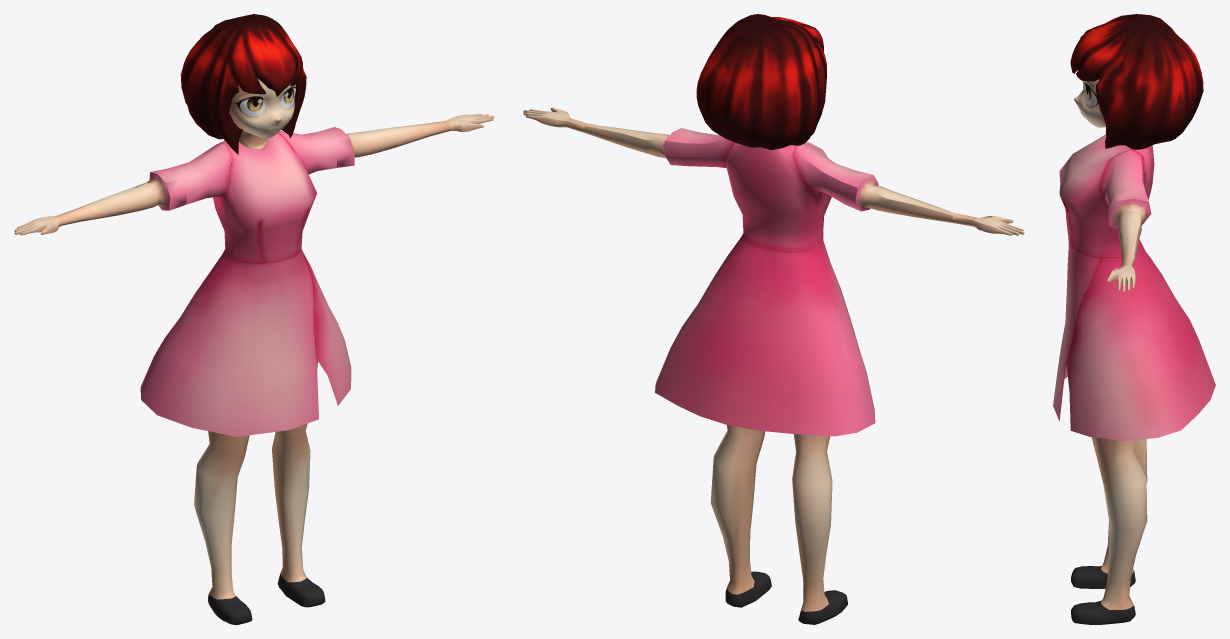
Rendered from 해당화 캐릭터.FBX.
3 views of the same model, side by side, from view 1: azimuth 30°, elevation 25°; view 2: azimuth 150°, elevation 25°; view 3: azimuth 270°, elevation 25° (orthographic). The views are drawn at different scales.
Parts seen in each view (by area): view 1: Object016; view 2: Object016; view 3: Object016.
Boxes of the visible parts, x1,y1,x2,y2 form: Object016: [14, 14, 494, 624]; Object016: [523, 14, 1024, 624]; Object016: [1053, 14, 1215, 624].
Bounding box in the file's own units: 10.24 × 2.97 × 11.65.
